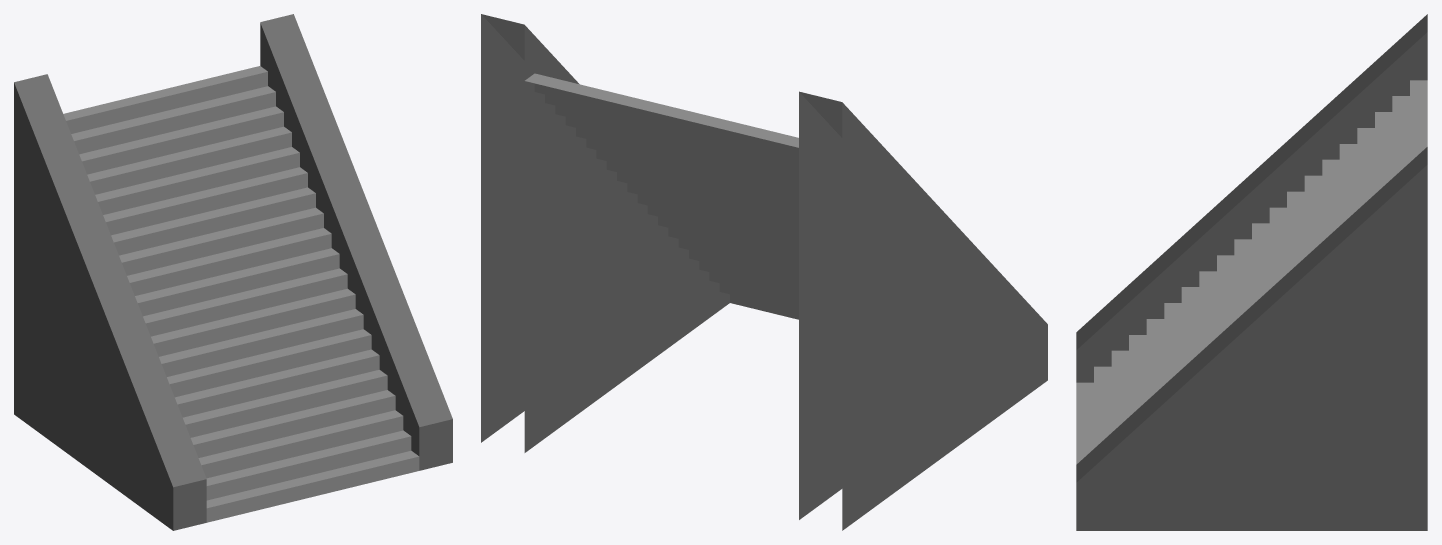
File: Stairs_1_2_1.fbx
The picture shows the model from 3 angles, left to right: view 1: azimuth 30°, elevation 25°; view 2: azimuth 150°, elevation 25°; view 3: azimuth 270°, elevation 25°; orthographic projection. The views are drawn at different scales.
Parts seen in each view (by area): view 1: Stairs, Stairs_1_2_1; view 2: Stairs_1_2_1, Stairs; view 3: Stairs_1_2_1, Stairs.
Part boxes in pixels (box(x1,y1,x2,y2)): Stairs: box(63, 66, 419, 522); Stairs_1_2_1: box(14, 14, 452, 530); Stairs_1_2_1: box(481, 14, 1047, 530); Stairs: box(525, 73, 798, 319); Stairs_1_2_1: box(1076, 14, 1427, 530); Stairs: box(1076, 80, 1427, 464).
Bounding box in the file's own units: 160 × 181 × 157.
1 material, 1 textured.
